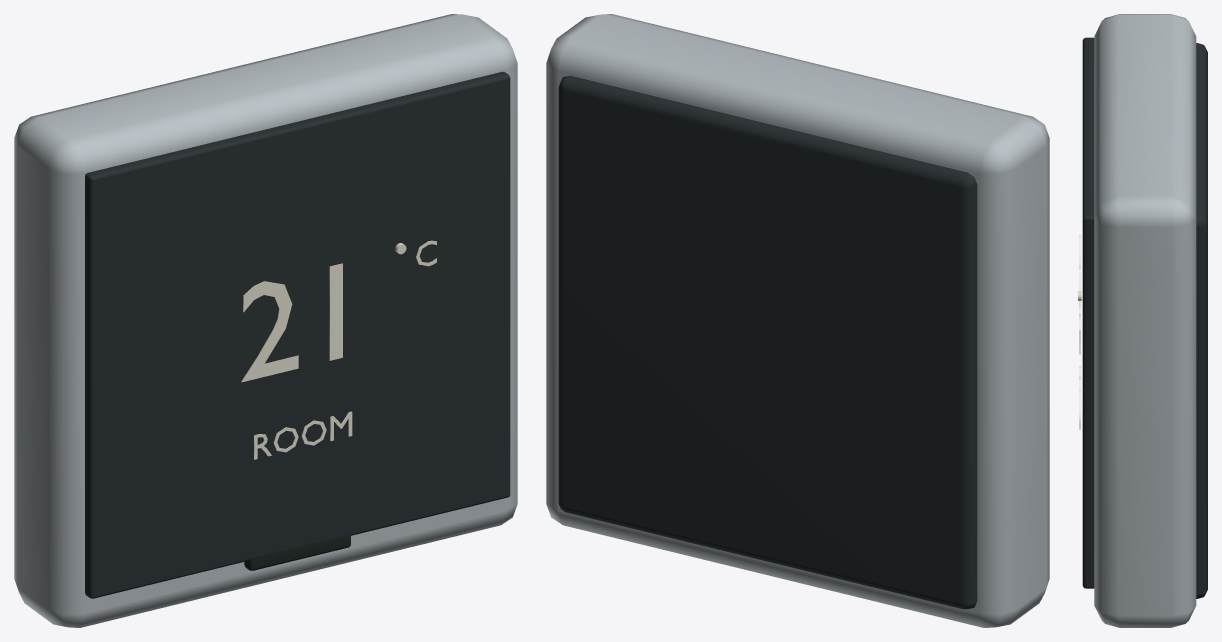
File: utility-thermostat.glb
3 renders of one model, left to right at view 1: azimuth 30°, elevation 25°; view 2: azimuth 150°, elevation 25°; view 3: azimuth 270°, elevation 25°, orthographic. The views are drawn at different scales.
Visible parts, largest first — view 1: utility-thermostat authored assembly; view 2: utility-thermostat authored assembly; view 3: utility-thermostat authored assembly.
Part boxes in pixels (x1=…): utility-thermostat authored assembly: x1=14, y1=14, x2=517, y2=627; utility-thermostat authored assembly: x1=546, y1=14, x2=1049, y2=627; utility-thermostat authored assembly: x1=1078, y1=14, x2=1207, y2=627.
Size of the model in its own units: 0.11 by 0.11 by 0.03.
